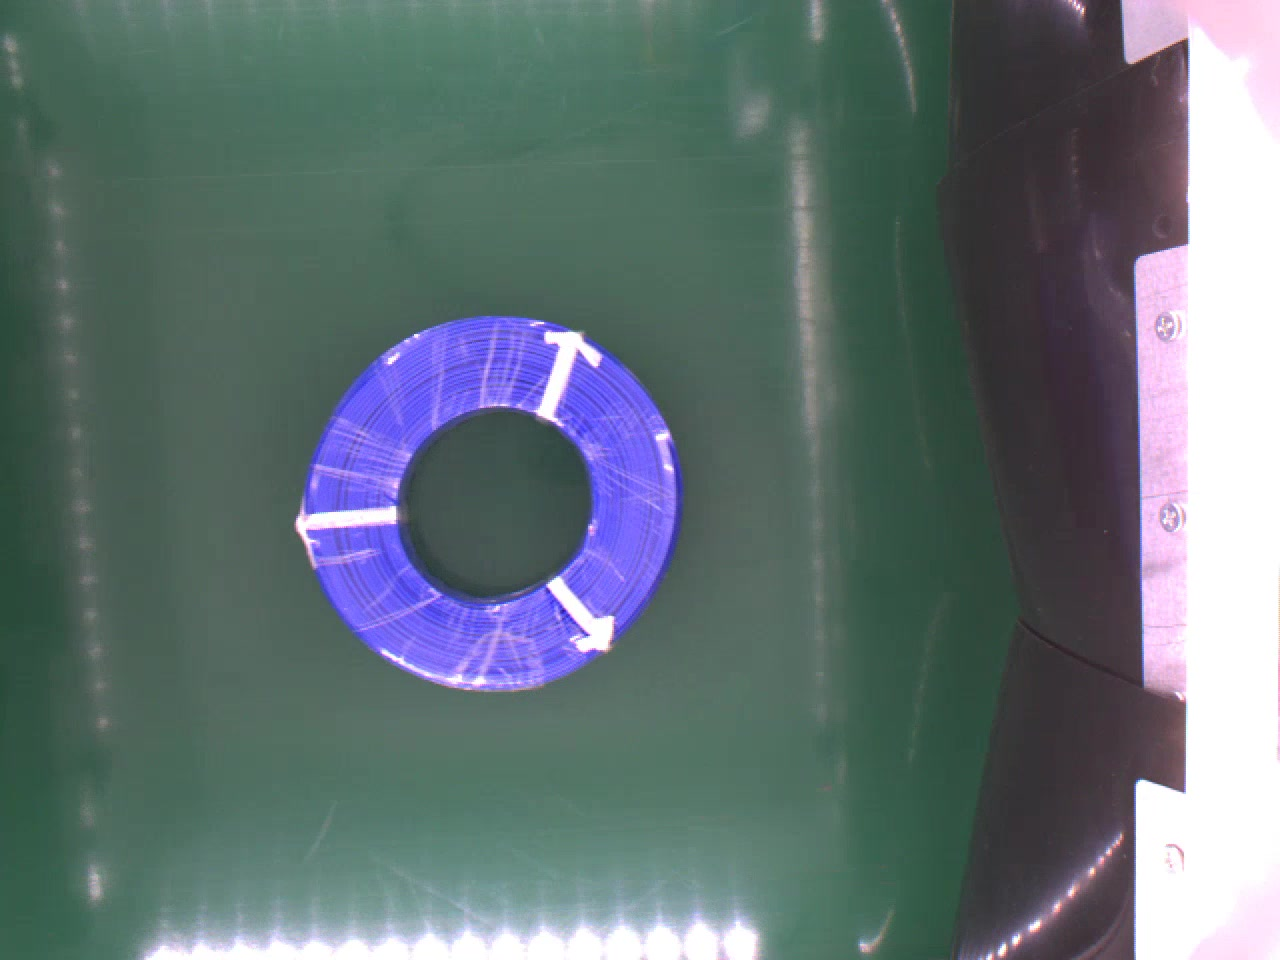blue: (291, 313, 690, 705)
